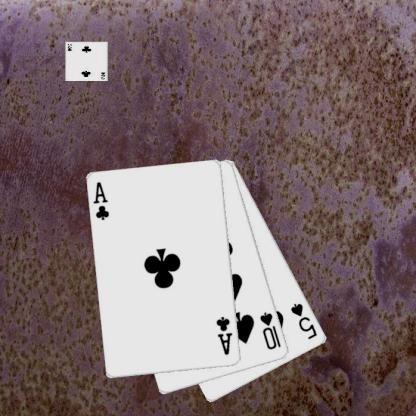10S: (258, 309, 282, 351)
5S: (288, 300, 319, 341)
AC: (91, 179, 111, 222), (214, 315, 234, 356)
